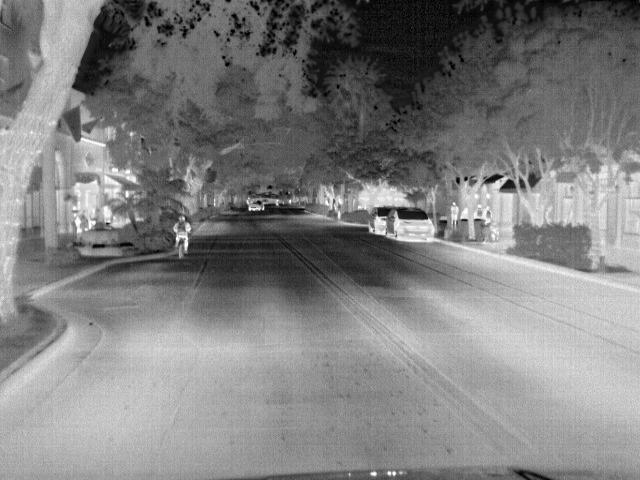car: (387, 207, 435, 243), (369, 206, 397, 234), (247, 199, 267, 213)
person: (172, 214, 192, 258), (449, 198, 461, 230), (473, 202, 487, 220), (482, 204, 495, 223)
